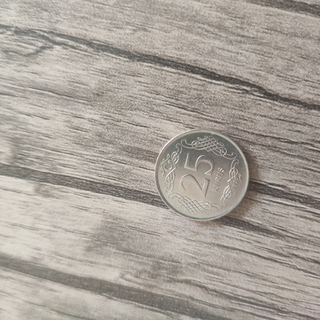25KURUS: (153, 127, 250, 223)
